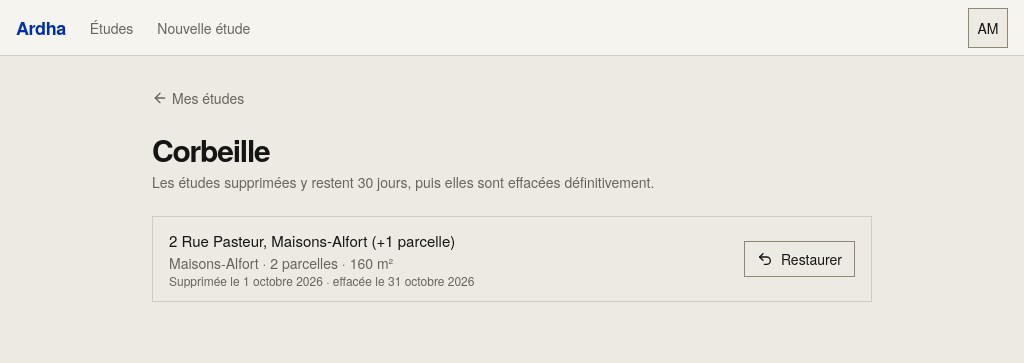
Test: corbeille › restauration refusée
Click the button "Restaurer".
click(799, 259)  # box [744, 241, 855, 277]
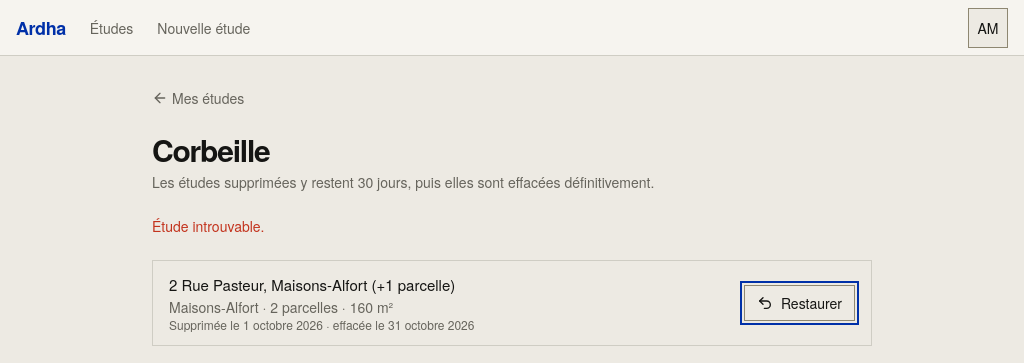
Expected: the message reads "Étude introuvable.", [152, 216, 264, 236]
